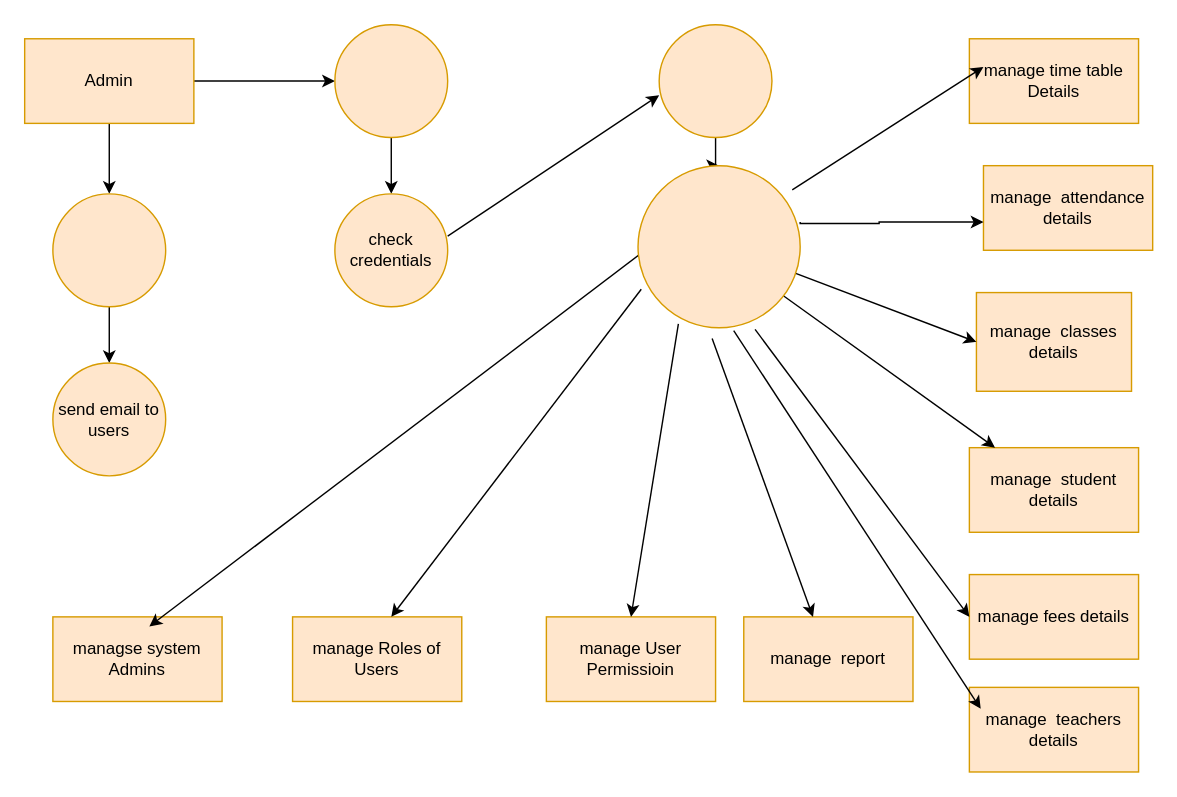
The diagram is 1177 pixels wide and 797 high, and some of its shapes have lost their labels. The centre of each missing label's shape, as x and y in pixels:
"check role of access" belongs at pixel 715 80.
"Forgot Password" belongs at pixel 108 249.
"Login to System" belongs at pixel 390 80.
"manage modules" belongs at pixel 718 246.
